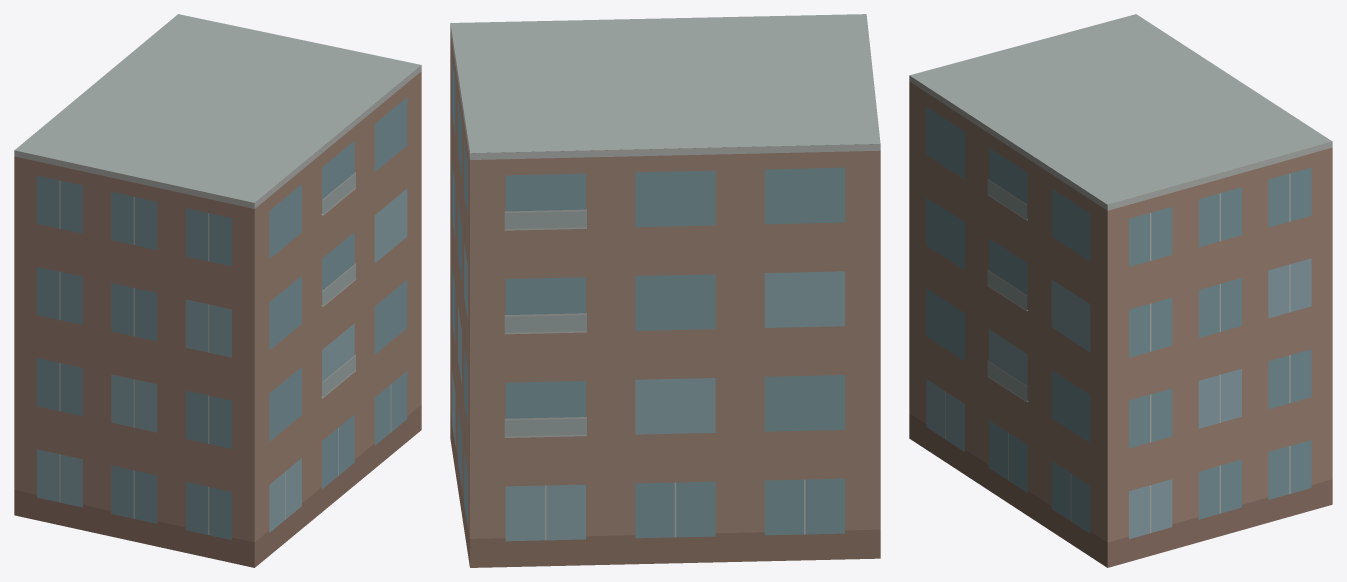
The model's file is survey-upis-33000873.glb.
3 renders of one model, left to right at view 1: azimuth 30°, elevation 25°; view 2: azimuth 150°, elevation 25°; view 3: azimuth 270°, elevation 25°, orthographic. The views are drawn at different scales.
Visible parts, largest first — view 1: survey-upis-33000873.tmp; view 2: survey-upis-33000873.tmp; view 3: survey-upis-33000873.tmp.
Boxes of the visible parts, box(x1,y1,x2,y2) form: survey-upis-33000873.tmp: box(14, 14, 421, 567); survey-upis-33000873.tmp: box(450, 14, 880, 567); survey-upis-33000873.tmp: box(909, 14, 1332, 567).
Bounding box in the file's own units: 16.53 × 14.66 × 15.5.
